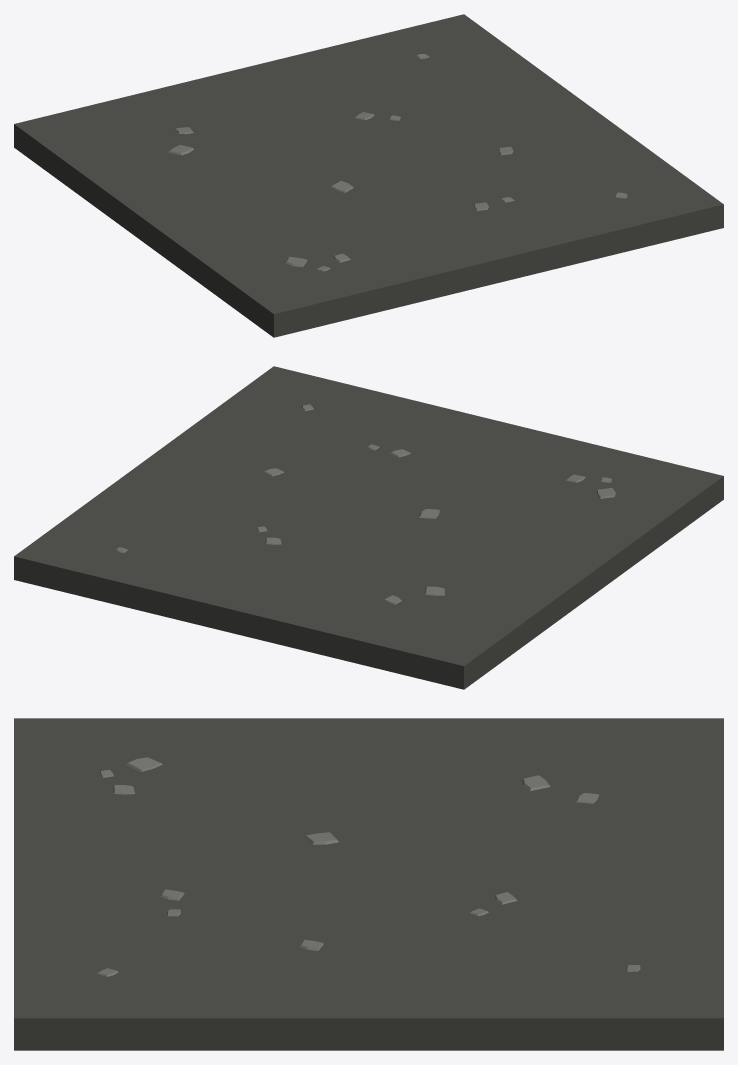
File: Floor_5.fbx
3 renders of one model, top to bottom at view 1: azimuth 30°, elevation 25°; view 2: azimuth 150°, elevation 25°; view 3: azimuth 270°, elevation 25°, orthographic. The views are drawn at different scales.
Visible parts, largest first — view 1: Floor_5; view 2: Floor_5; view 3: Floor_5.
Boxes of the visible parts, <box> form: Floor_5: <box>14,14,723,337</box>; Floor_5: <box>14,366,723,689</box>; Floor_5: <box>14,718,723,1050</box>.
Bounding box in the file's own units: 200 × 10.72 × 200.
